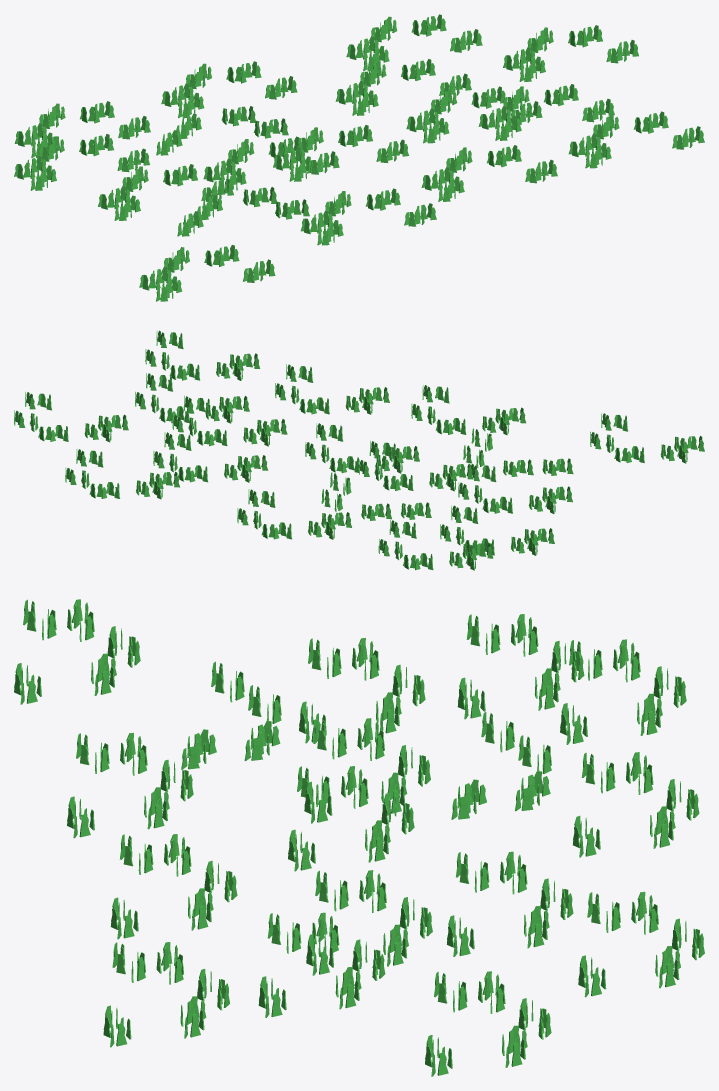
Rendered from Pasto.fbx.
The picture shows the model from 3 angles, top to bottom: view 1: azimuth 30°, elevation 25°; view 2: azimuth 150°, elevation 25°; view 3: azimuth 270°, elevation 25°; orthographic projection. The views are drawn at different scales.
Parts seen in each view (by area): view 1: Pastito; view 2: Pastito; view 3: Pastito.
Boxes of the visible parts, x1,y1,x2,y2 form: Pastito: (14, 14, 704, 301); Pastito: (14, 330, 704, 570); Pastito: (14, 599, 704, 1076).
Size of the model in its own units: 827 by 18.46 by 526.
